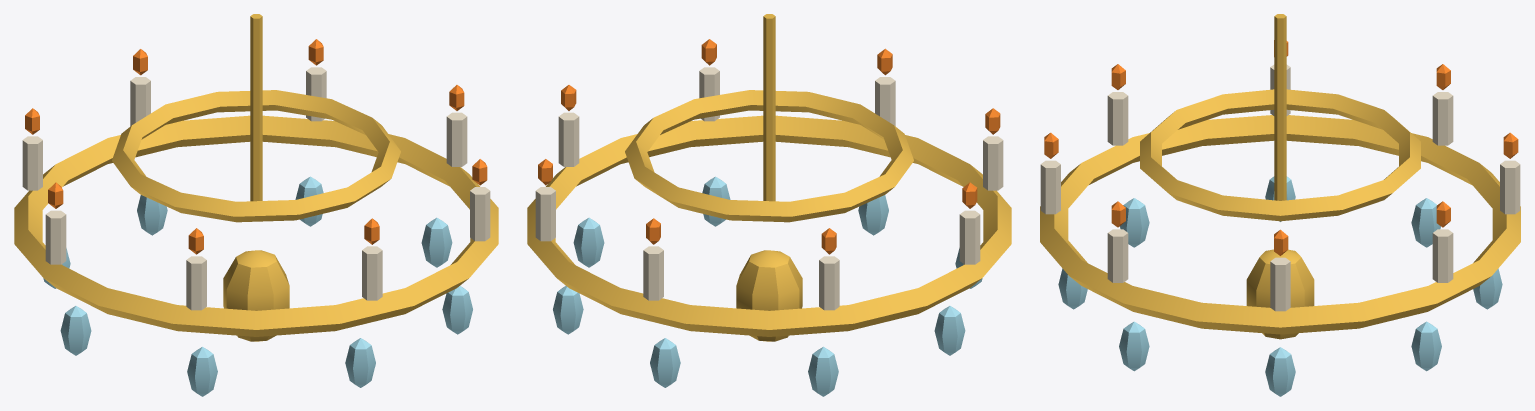
The model's file is PR_Tier_SarayAvize.fbx.
3 renders of one model, left to right at view 1: azimuth 30°, elevation 25°; view 2: azimuth 150°, elevation 25°; view 3: azimuth 270°, elevation 25°, orthographic.
Parts seen in each view (by area): view 1: PR_Tier_SarayAvize; view 2: PR_Tier_SarayAvize; view 3: PR_Tier_SarayAvize.
Boxes of the visible parts, x1=… form: PR_Tier_SarayAvize: x1=14, y1=14, x2=498, y2=396; PR_Tier_SarayAvize: x1=527, y1=14, x2=1011, y2=396; PR_Tier_SarayAvize: x1=1040, y1=14, x2=1520, y2=396.
Size of the model in its own units: 0.956 by 0.698 by 0.9415.
